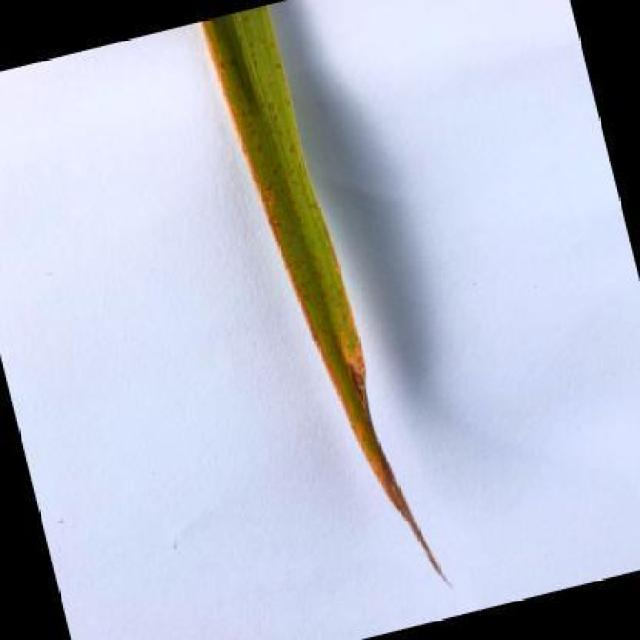Rice False Smut: (203, 0, 448, 609)
